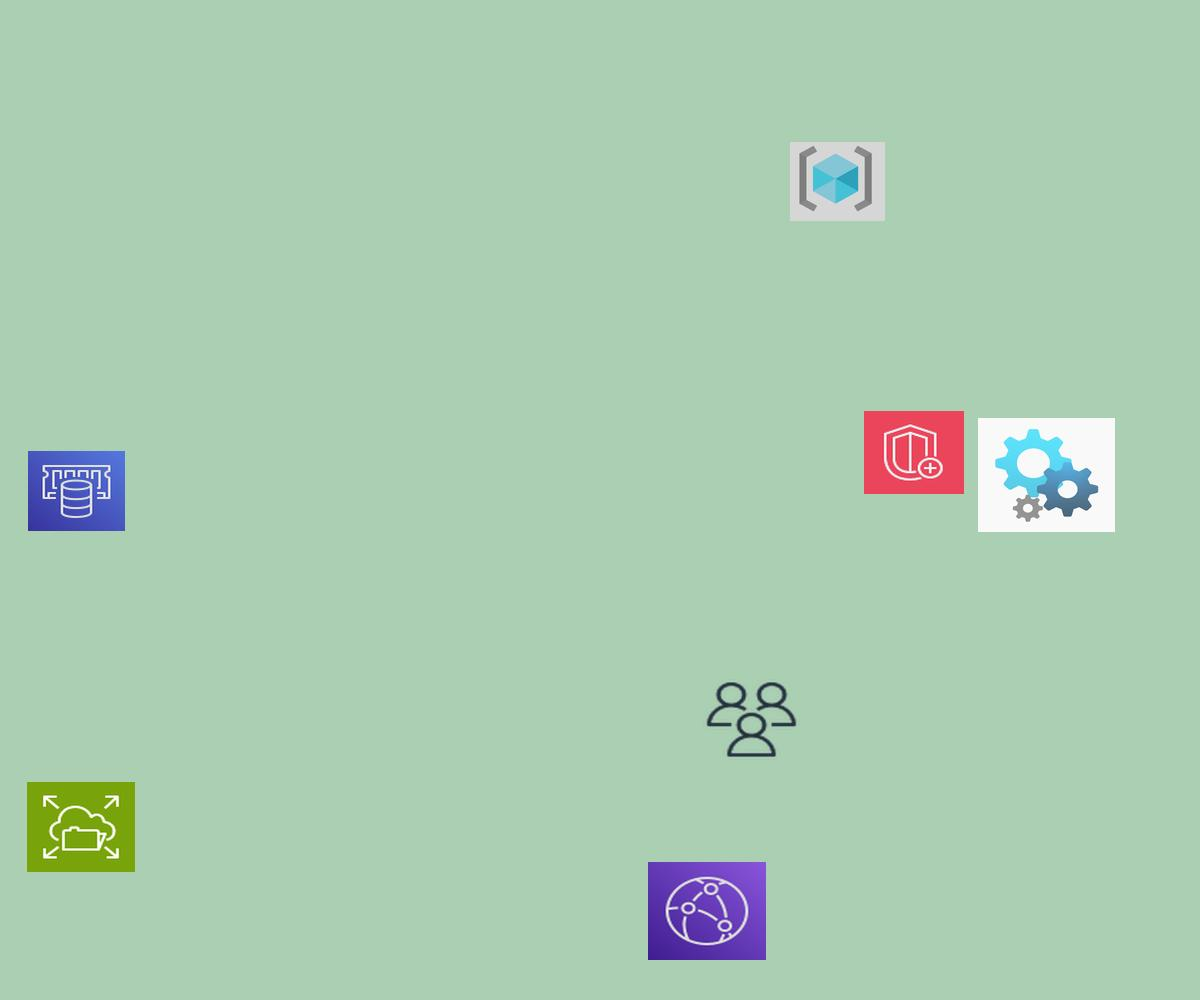AWS-CloudFront: (648, 862, 766, 960)
AWS-EFS: (27, 782, 135, 872)
AWS-ElastiCache: (28, 451, 125, 531)
AWS-Res_Users: (703, 679, 800, 760)
AWS-Shield: (864, 411, 964, 494)
Azure_api: (978, 418, 1115, 532)
Azure_resource_group: (790, 142, 885, 221)
